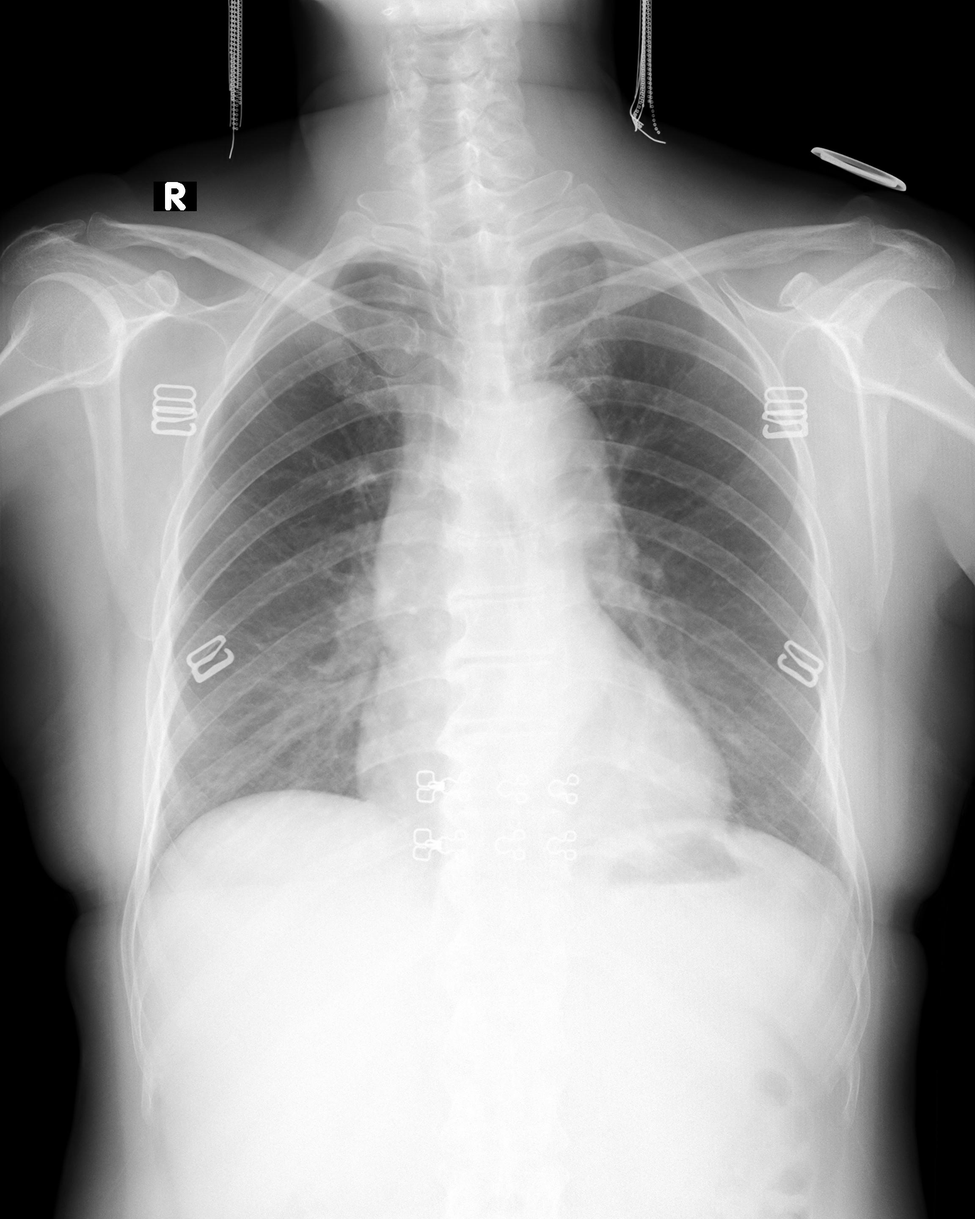Aortic enlargement: (490, 384, 616, 544)
Cardiomegaly: (356, 736, 734, 845)
